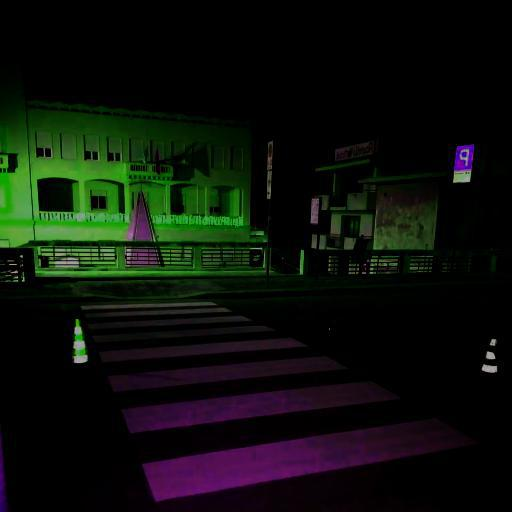crosswalk: (100, 353, 420, 438), (72, 304, 260, 332)
